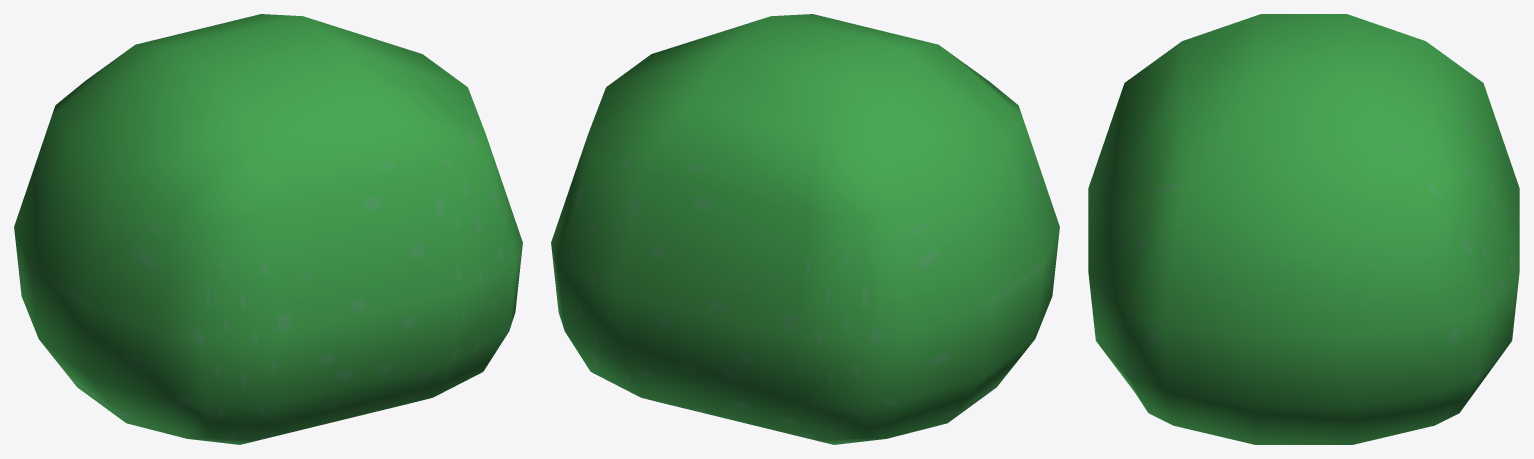
File: Trees_Underbrush.fbx
3 renders of one model, left to right at view 1: azimuth 30°, elevation 25°; view 2: azimuth 150°, elevation 25°; view 3: azimuth 270°, elevation 25°, orthographic.
Parts seen in each view (by area): view 1: Underbrush; view 2: Underbrush; view 3: Underbrush.
Part boxes in pixels (<box>): Underbrush: <box>14,14,522,444</box>; Underbrush: <box>551,14,1059,444</box>; Underbrush: <box>1088,14,1519,444</box>.
Bounding box in the file's own units: 115 × 88.86 × 103.
1 material, 1 textured.
